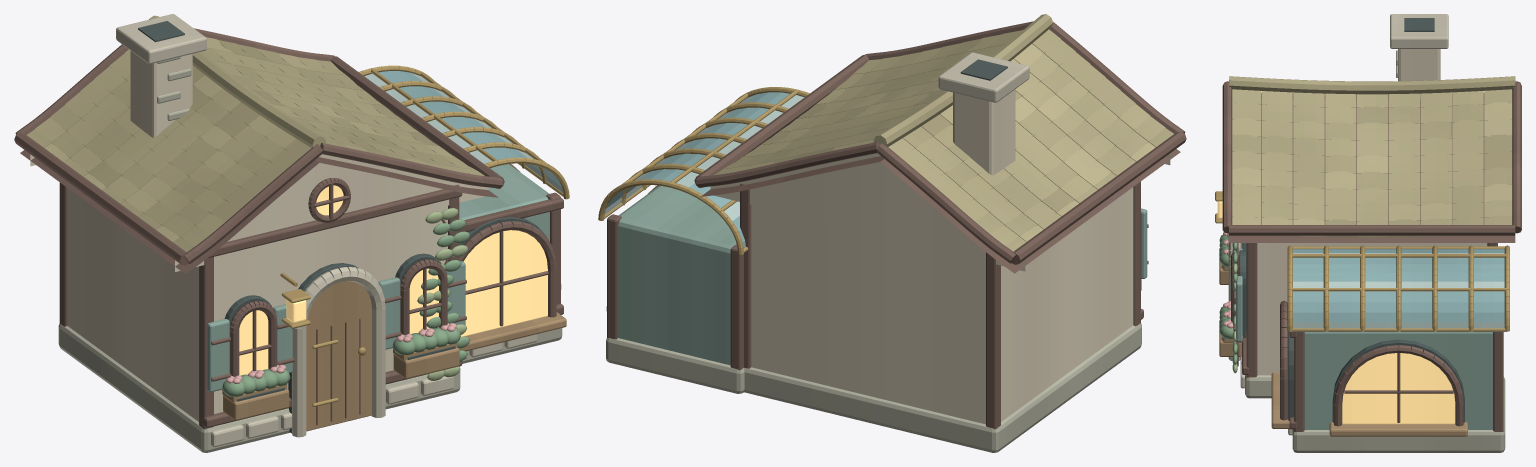
Rendered from village-neighbor3.glb.
3 renders of one model, left to right at view 1: azimuth 30°, elevation 25°; view 2: azimuth 150°, elevation 25°; view 3: azimuth 270°, elevation 25°, orthographic. The views are drawn at different scales.
Visible parts, largest first — view 1: Forest hamlet; view 2: Forest hamlet; view 3: Forest hamlet.
Part boxes in pixels (x1,y1,x2,y2): Forest hamlet: [14, 14, 569, 452]; Forest hamlet: [598, 14, 1186, 452]; Forest hamlet: [1215, 14, 1521, 452].
Size of the model in its own units: 5.79 by 4.23 by 4.04.
Materials: 18 (18 with a texture image).
